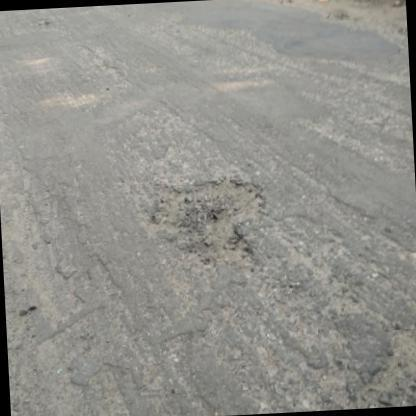pothole: (150, 176, 272, 273), (349, 323, 416, 415)
